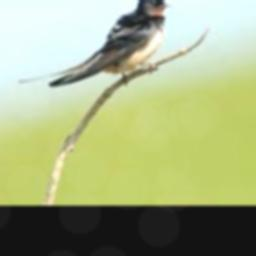Swallow: (18, 0, 169, 88)
